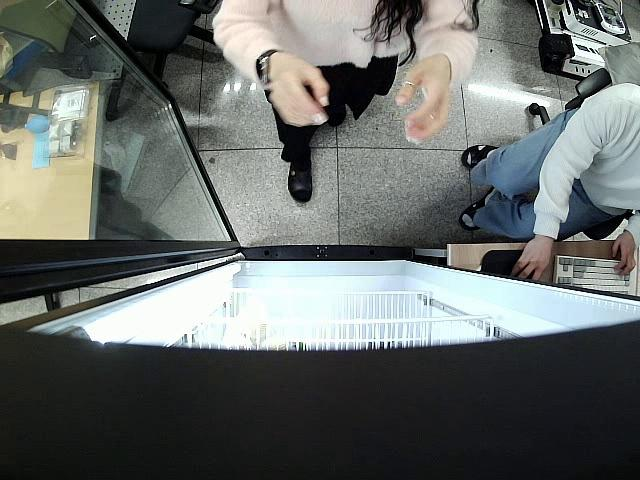00_hand: (268, 51, 330, 127), (394, 61, 451, 143), (513, 237, 551, 283), (611, 231, 637, 278)
